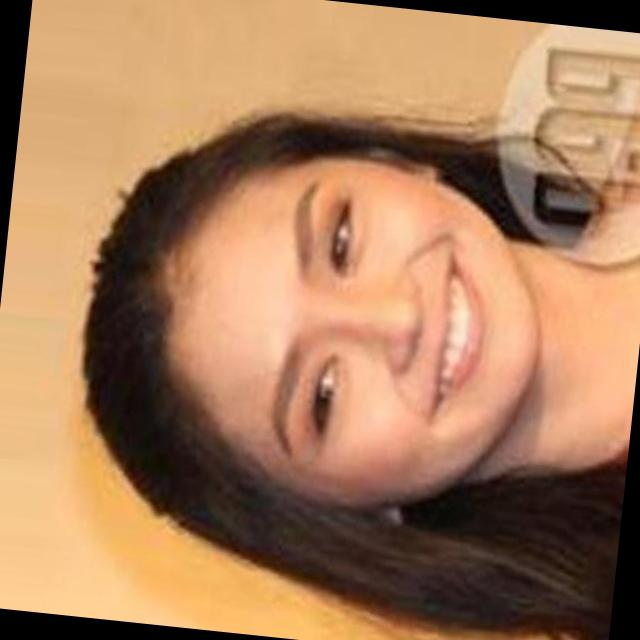bareface: (177, 150, 522, 512)
